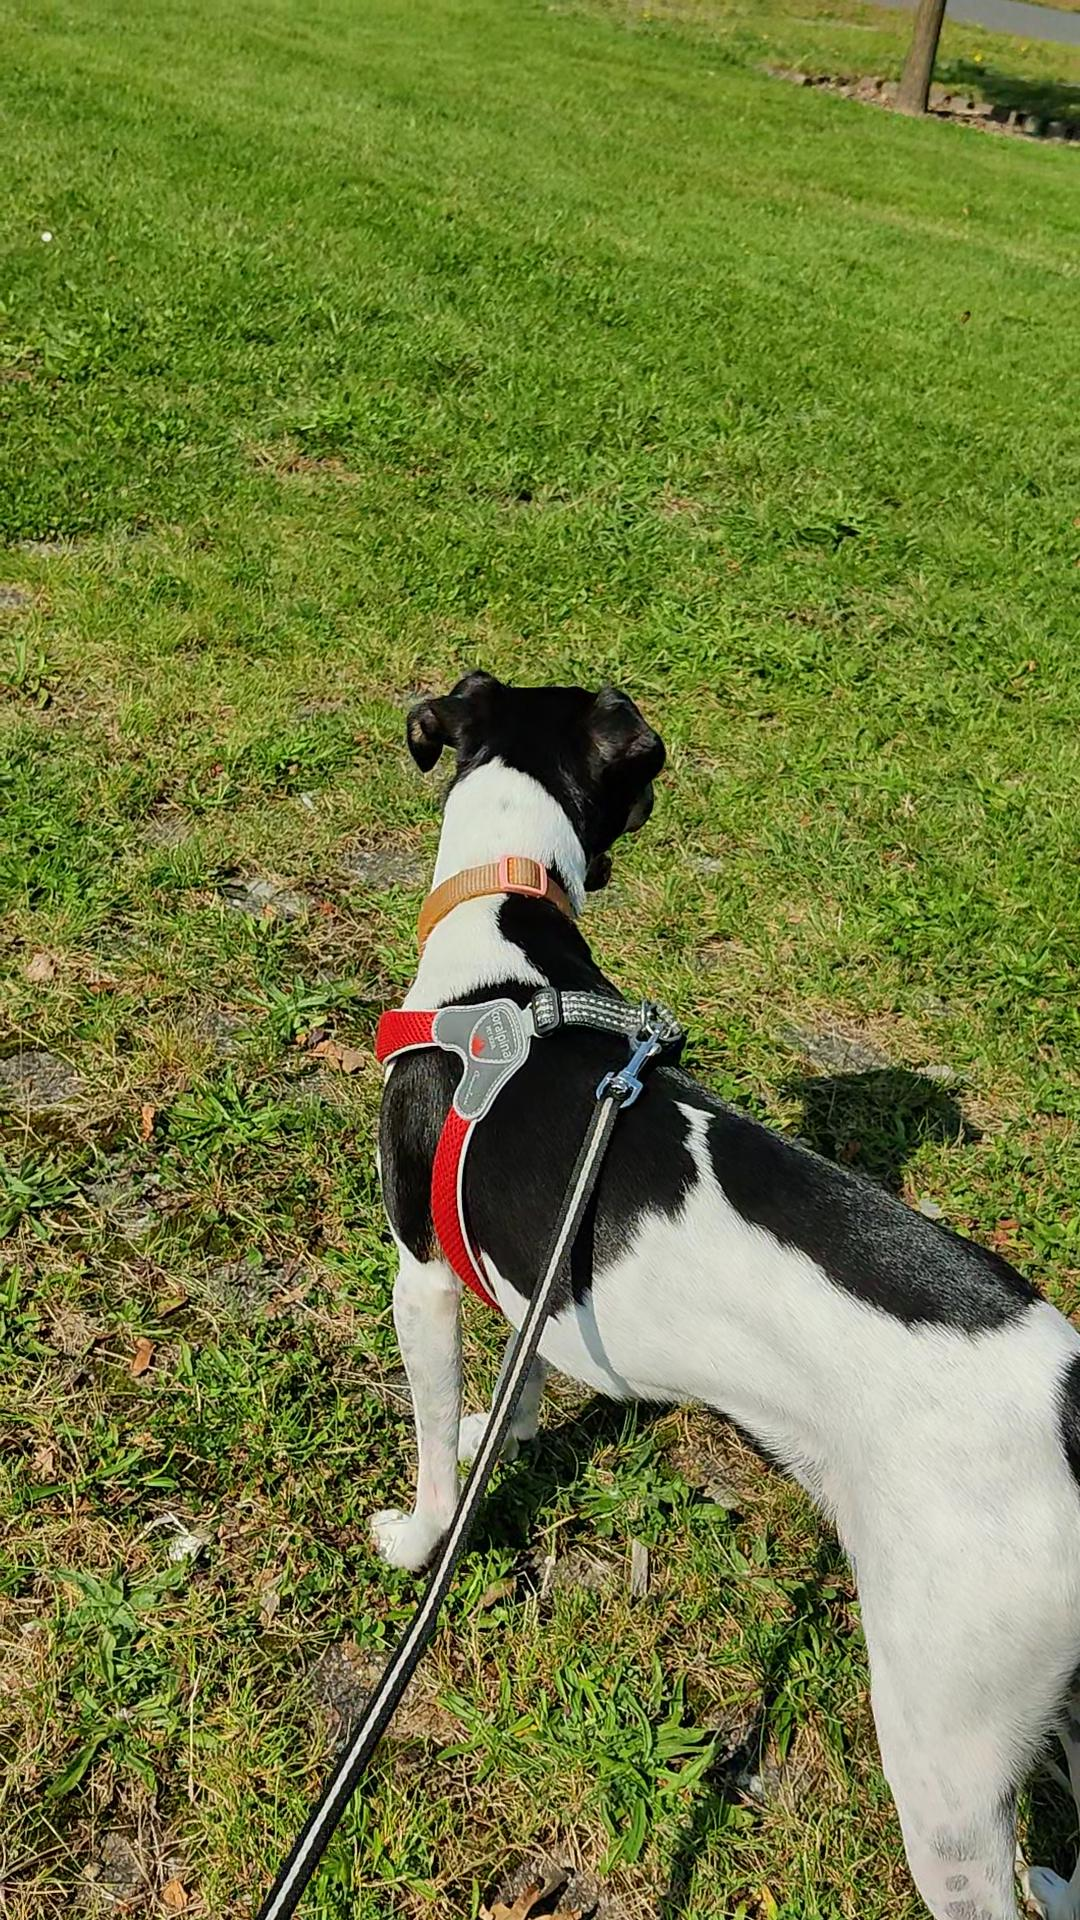Dog: (290, 640, 1079, 1919)
